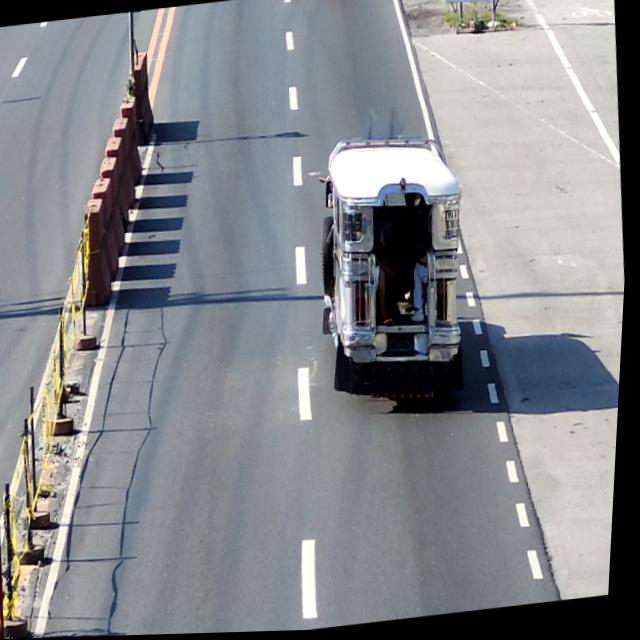Jeep: (308, 115, 485, 423)
License-Plate: (389, 332, 420, 354)
